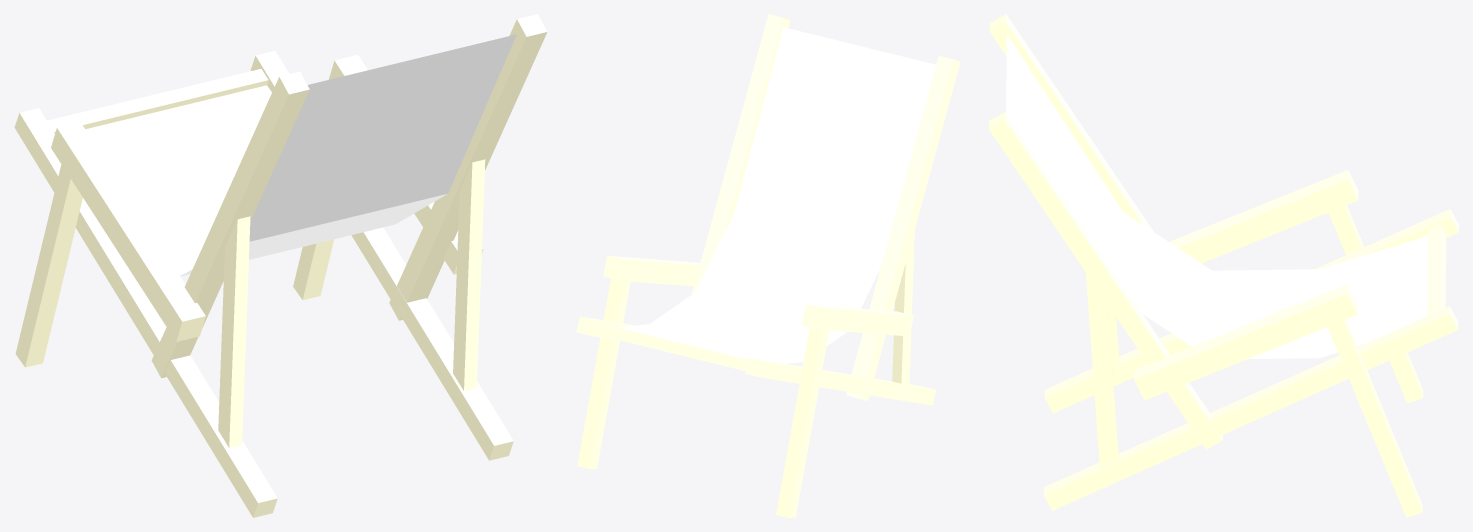
The model's file is bench.004.glb.
The picture shows the model from 3 angles, left to right: view 1: azimuth 30°, elevation 25°; view 2: azimuth 150°, elevation 25°; view 3: azimuth 270°, elevation 25°; orthographic projection. The views are drawn at different scales.
Visible parts, largest first — view 1: bench.004(Clone); view 2: bench.004(Clone); view 3: bench.004(Clone).
Boxes of the visible parts, x1,y1,x2,y2 form: bench.004(Clone): (14,14,547,517); bench.004(Clone): (576,14,960,517); bench.004(Clone): (989,14,1458,517).
Size of the model in its own units: 0.6737 by 0.9871 by 1.08.
Materials: 1 (1 with a texture image).
